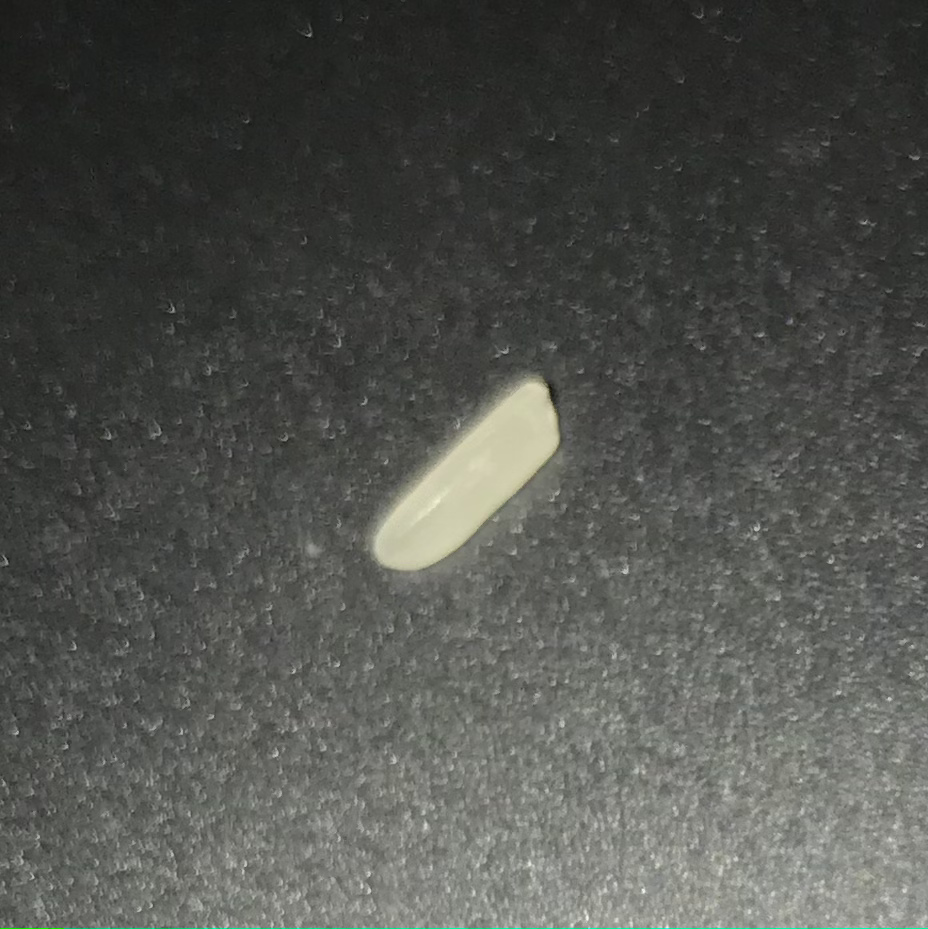Gao Thom My: (374, 367, 561, 581)
